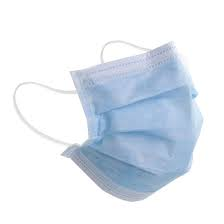flumask: (75, 58, 201, 195)
